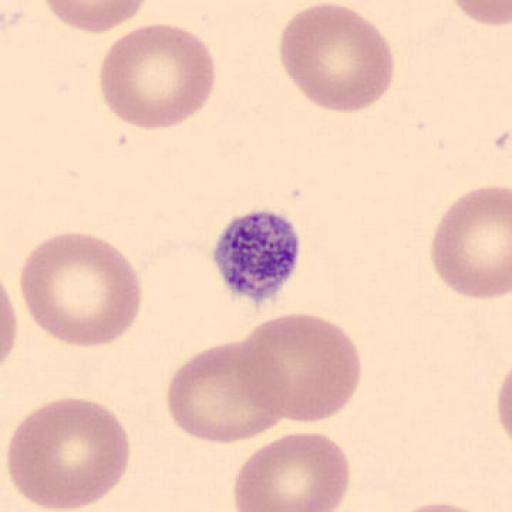Platelet: (209, 207, 303, 305)
RBC: (18, 229, 144, 349), (6, 396, 132, 511), (241, 312, 363, 424), (278, 1, 396, 115), (96, 22, 218, 132), (166, 338, 289, 446), (233, 431, 352, 511), (431, 184, 512, 300), (42, 0, 150, 35), (451, 0, 512, 27), (1, 280, 19, 366), (496, 370, 512, 442), (391, 502, 492, 512)
